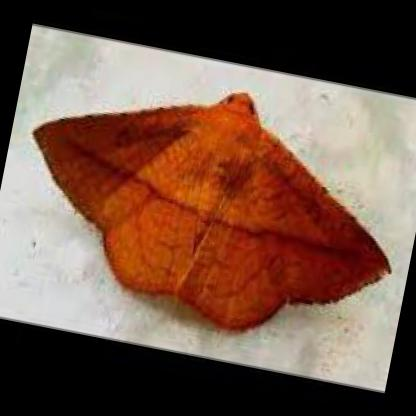Leaf Webber: (31, 82, 393, 344)
